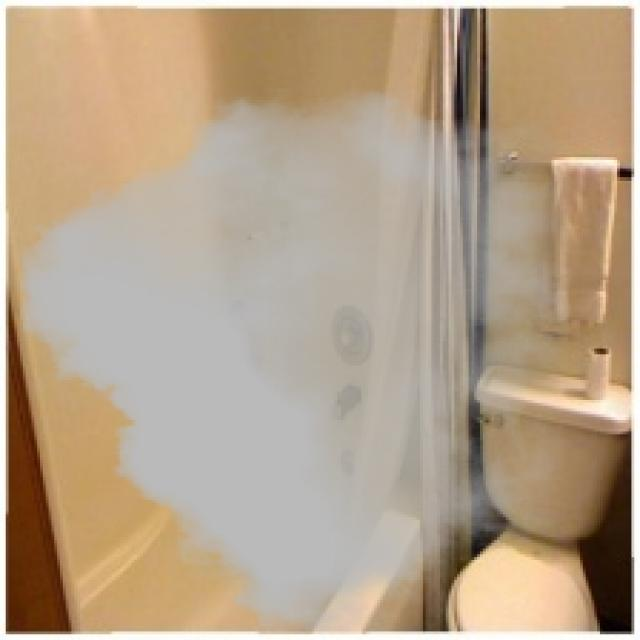smoke: (20, 89, 569, 632)
